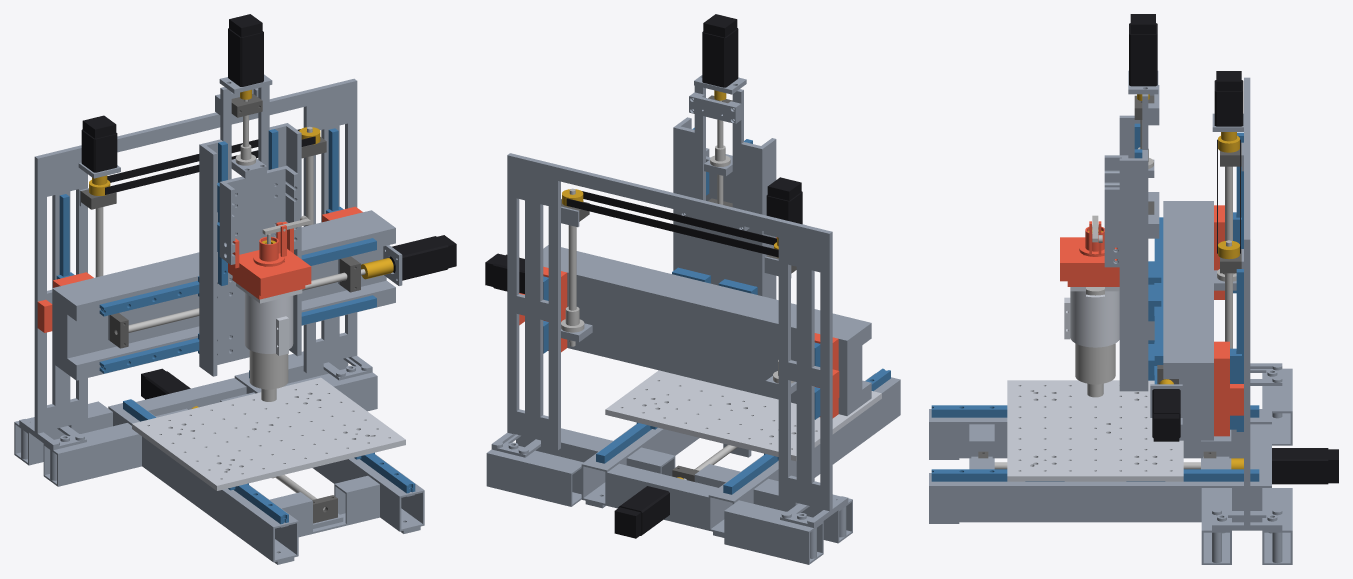
The model's file is pro_center.glb.
3 views of the same model, side by side, from view 1: azimuth 30°, elevation 25°; view 2: azimuth 150°, elevation 25°; view 3: azimuth 270°, elevation 25° (orthographic). The views are drawn at different scales.
Visible parts, largest first — view 1: table, beam, x_carriage, upright_L, frame_cross_rear, upright_R, frame_longeron_L, z_slide, lift_tie, frame_longeron_R, frame_cross_bf, head_mount (+24 smaller); view 2: beam, upright_L, upright_R, frame_cross_rear, x_carriage, table, lift_tie, frame_longeron_L, frame_cross_end, frame_longeron_R, z_motor, y_motor (+10 smaller); view 3: table, frame_longeron_R, beam, x_carriage, frame_cross_rear, frame_longeron_L, upright_R, head_mount, y_motor, z_motor, y_rail_R, head_spindle (+16 smaller).
Part boxes in pixels (x1,y1,x2,y2): table: (132, 377, 405, 490); beam: (52, 210, 402, 380); x_carriage: (199, 85, 301, 376); upright_L: (19, 161, 87, 450); frame_cross_rear: (14, 351, 377, 486); upright_R: (303, 94, 372, 380); frame_longeron_L: (108, 400, 298, 564); z_slide: (219, 165, 298, 264); lift_tie: (34, 78, 357, 171); frame_longeron_R: (234, 372, 424, 533); frame_cross_bf: (270, 475, 379, 537); head_mount: (236, 283, 302, 355); beam: (543, 245, 871, 415); upright_L: (778, 235, 848, 527); upright_R: (491, 168, 560, 457); frame_cross_rear: (486, 428, 852, 564); x_carriage: (673, 85, 776, 299); table: (605, 370, 881, 461); lift_tie: (507, 153, 832, 246); frame_longeron_L: (708, 373, 900, 537); frame_cross_end: (607, 463, 717, 530); frame_longeron_R: (581, 424, 699, 508); z_motor: (702, 14, 738, 87); y_motor: (614, 486, 669, 538); table: (1007, 380, 1183, 481); frame_longeron_R: (929, 473, 1271, 523); beam: (1150, 201, 1213, 440); x_carriage: (1119, 94, 1148, 391); frame_cross_rear: (1201, 368, 1292, 564); frame_longeron_L: (929, 409, 1271, 459); upright_R: (1212, 253, 1282, 530); head_mount: (1064, 287, 1119, 347); y_motor: (1272, 448, 1338, 484); z_motor: (1129, 14, 1157, 86); y_rail_R: (931, 469, 1259, 481); head_spindle: (1075, 287, 1115, 397).
Bounding box in the file's own units: 893 × 1025 × 813.
